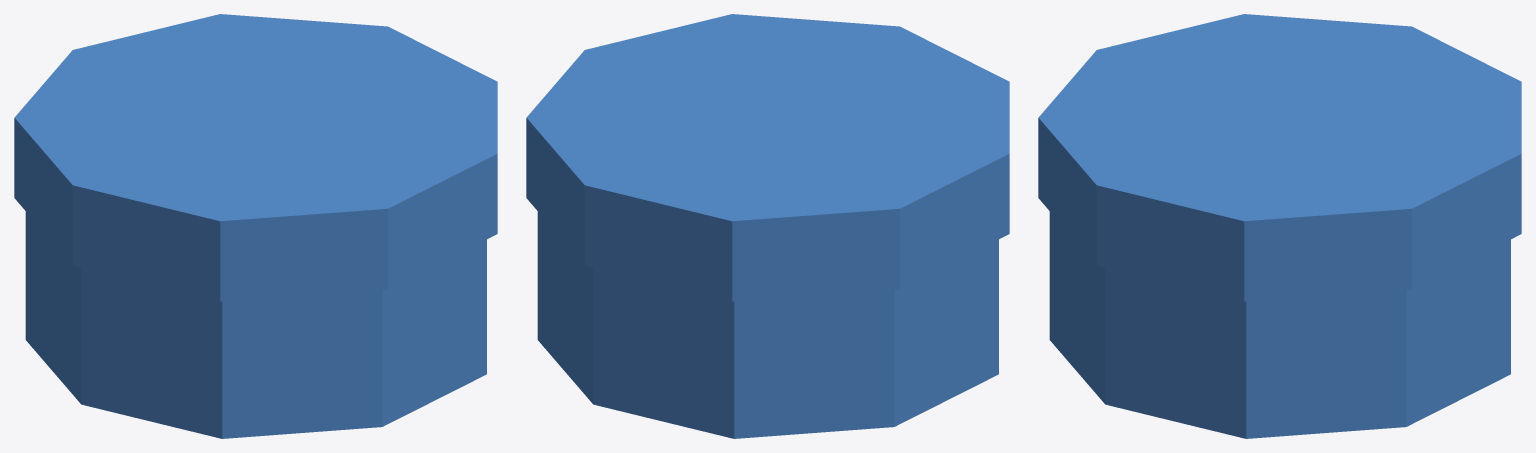
The picture shows the model from 3 angles, left to right: view 1: azimuth 30°, elevation 25°; view 2: azimuth 150°, elevation 25°; view 3: azimuth 270°, elevation 25°; orthographic projection.
Parts seen in each view (by area): view 1: Box_12; view 2: Box_12; view 3: Box_12.
Boxes of the visible parts, box(x1,y1,x2,y2) form: Box_12: box(14, 14, 497, 438); Box_12: box(526, 14, 1009, 438); Box_12: box(1038, 14, 1521, 438).
Size of the model in its own units: 11.22 by 11.05 by 5.61.
